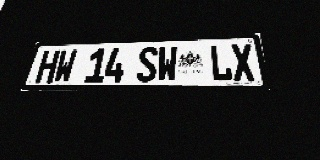1: (84, 48, 108, 83)
4: (103, 48, 126, 83)
H: (35, 50, 60, 83)
L: (209, 44, 233, 82)
S: (136, 47, 158, 82)
W: (52, 49, 78, 83), (157, 46, 177, 82)
X: (230, 44, 256, 81)
